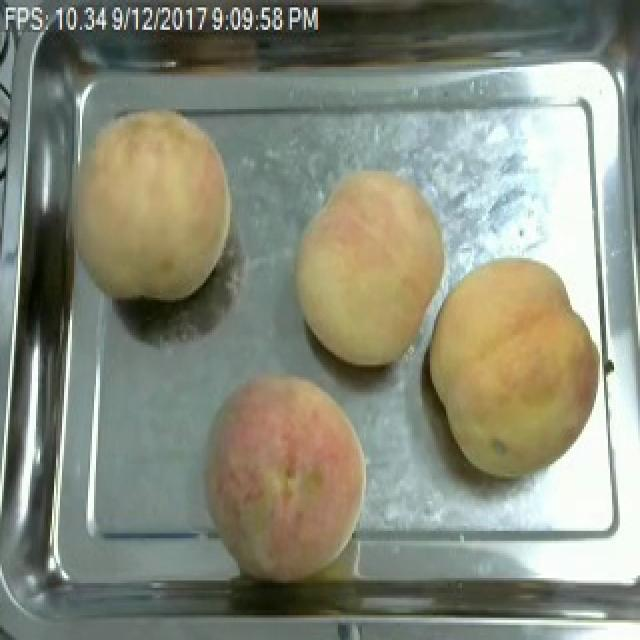Fruit: (418, 248, 608, 486), (200, 362, 378, 588), (58, 99, 244, 310), (286, 161, 454, 372)
